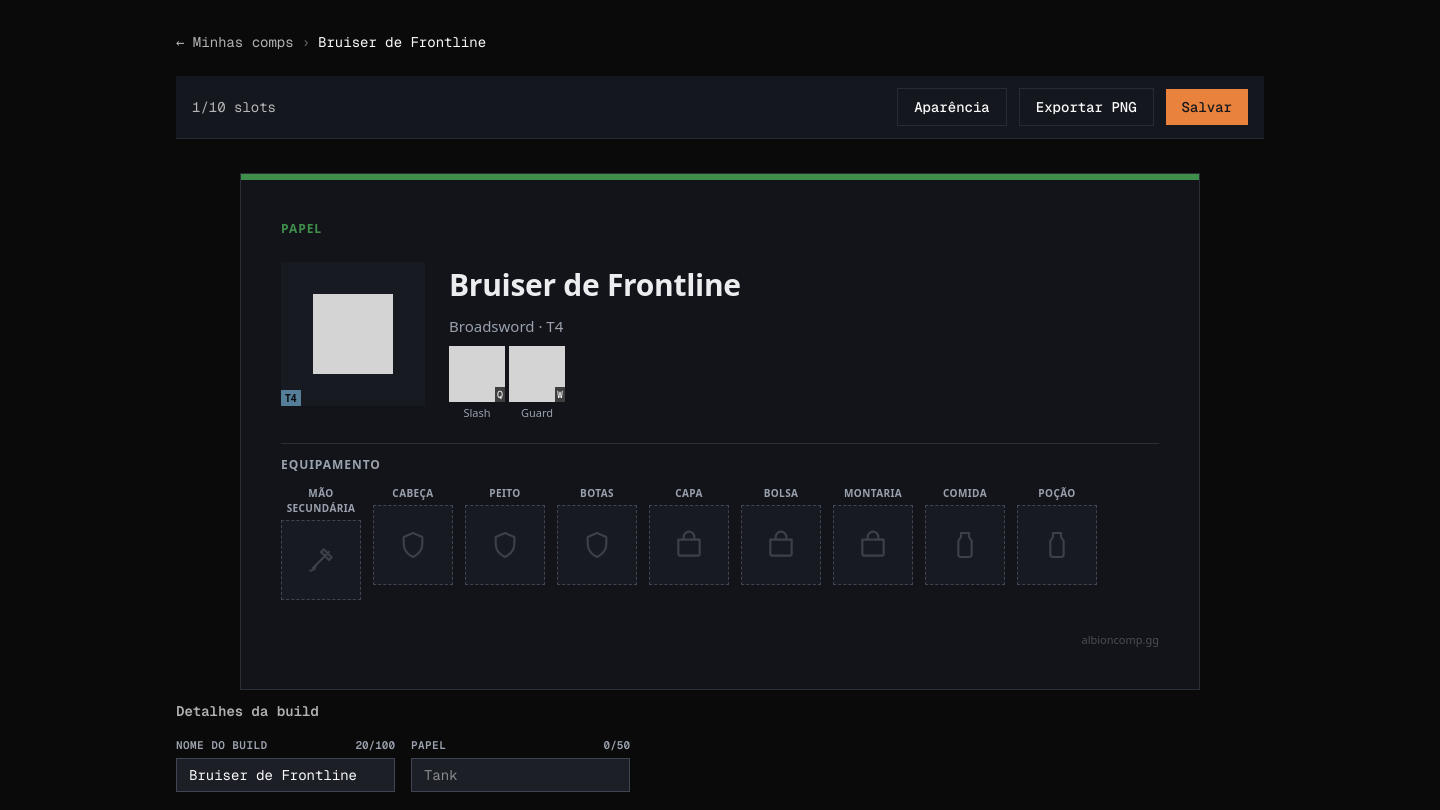
it: /build/new — Salvar persists via the real saveBuild Server Action (ACM-037 review fix) › surfaces the real saveBuild failure instead of always reporting success
The width and height of the screenshot is (1440, 810).
Click the button "Salvar" at (1207, 107), box [1166,89,1248,125]
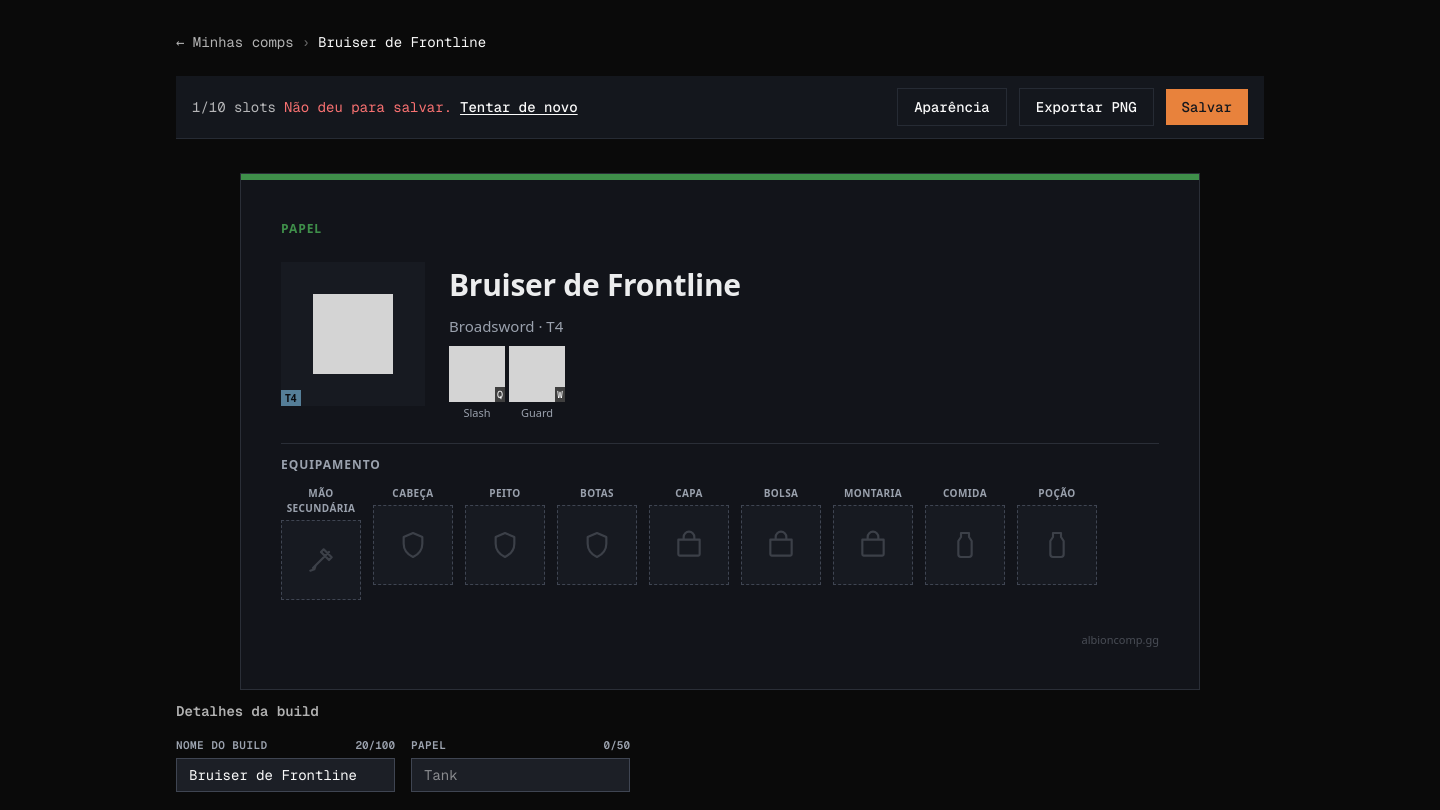
Result: the text "Não deu para salvar." is shown at [284,97,452,117]
